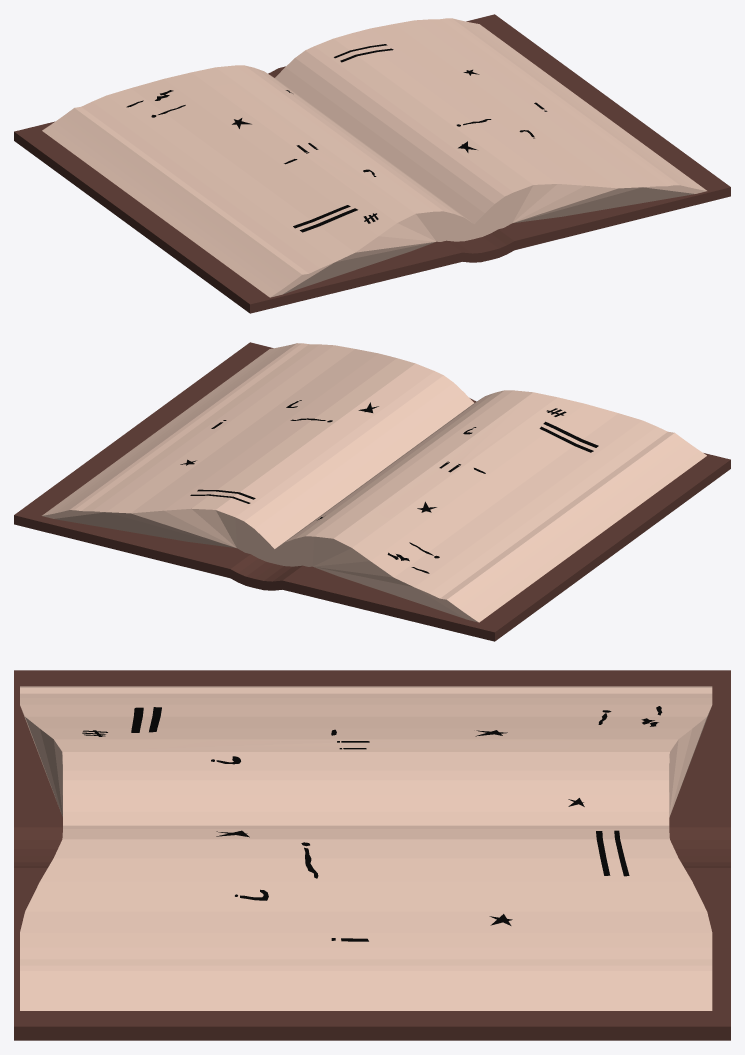
The model's file is CadernoAnotações.fbx.
The picture shows the model from 3 angles, top to bottom: view 1: azimuth 30°, elevation 25°; view 2: azimuth 150°, elevation 25°; view 3: azimuth 270°, elevation 25°; orthographic projection. The views are drawn at different scales.
Parts seen in each view (by area): view 1: CadernoAnotações; view 2: CadernoAnotações; view 3: CadernoAnotações.
Boxes of the visible parts, <box> form: CadernoAnotações: <box>14,14,730,313</box>; CadernoAnotações: <box>14,342,730,641</box>; CadernoAnotações: <box>14,670,730,1040</box>.
Size of the model in its own units: 575 by 56 by 489.
